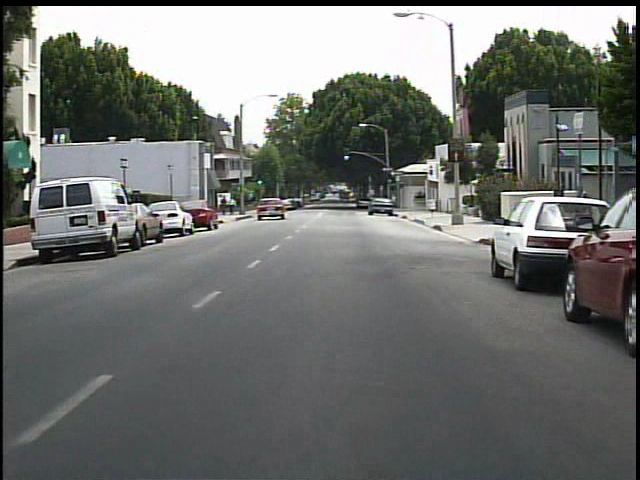person: (219, 195, 232, 217), (229, 197, 240, 219)
